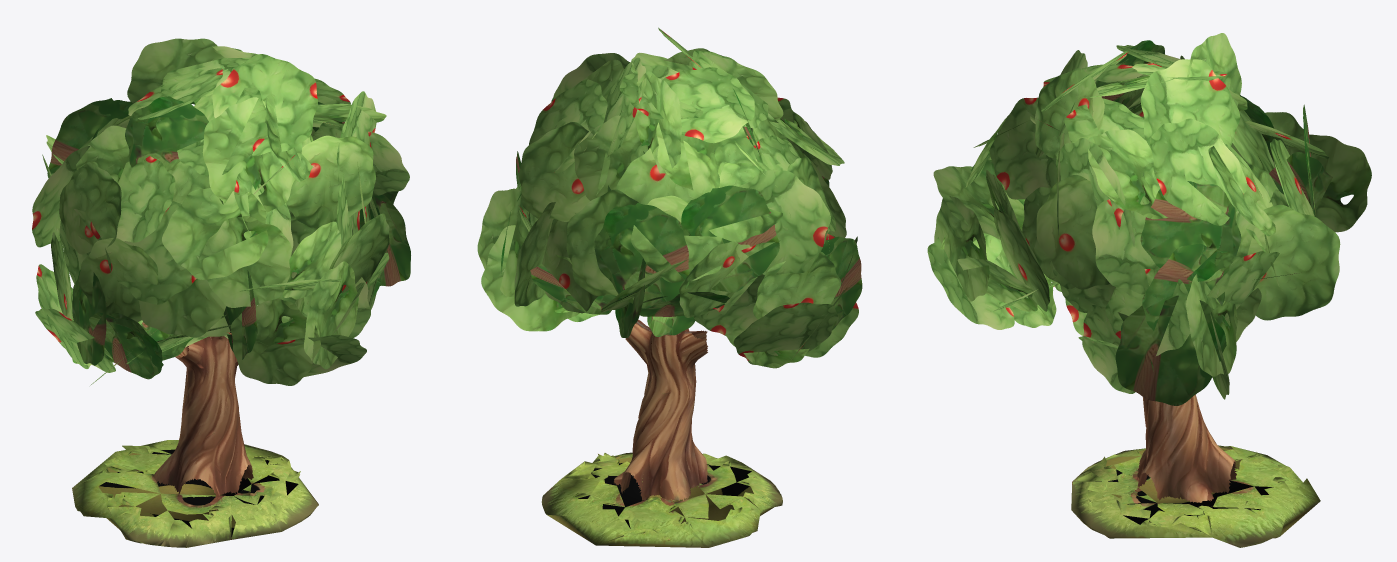
Rendered from Whimsical_Apple_Tree.fbx.
3 views of the same model, side by side, from view 1: azimuth 30°, elevation 25°; view 2: azimuth 150°, elevation 25°; view 3: azimuth 270°, elevation 25° (orthographic). The views are drawn at different scales.
Visible parts, largest first — view 1: Whimsical_Apple_Tree_LOD0; view 2: Whimsical_Apple_Tree_LOD0; view 3: Whimsical_Apple_Tree_LOD0.
Part boxes in pixels (x1,y1,x2,y2): Whimsical_Apple_Tree_LOD0: (32,38,410,547); Whimsical_Apple_Tree_LOD0: (477,27,862,547); Whimsical_Apple_Tree_LOD0: (927,33,1371,547).
Size of what is drawn, in the model's own units: 1.77 by 2.02 by 1.79.
Materials: 2 (2 with a texture image).
